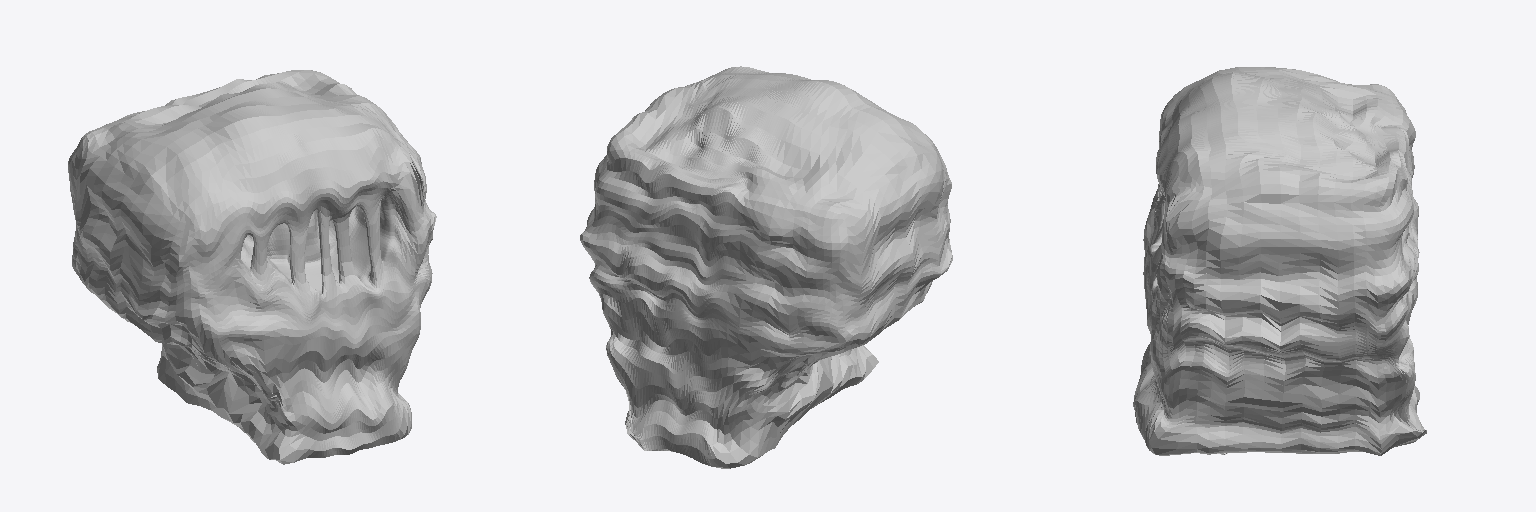
The model's file is Blob_2.OBJ.
3 views of the same model, side by side, from view 1: azimuth 30°, elevation 25°; view 2: azimuth 150°, elevation 25°; view 3: azimuth 270°, elevation 25° (orthographic).
Parts seen in each view (by area): view 1: Group2; view 2: Group2; view 3: Group2.
Part boxes in pixels (left/top/right/bottom): Group2: left=68, top=70, right=436, bottom=464; Group2: left=580, top=66, right=952, bottom=468; Group2: left=1133, top=67, right=1426, bottom=455.
Bounding box in the file's own units: 7.37 × 7.82 × 6.4.